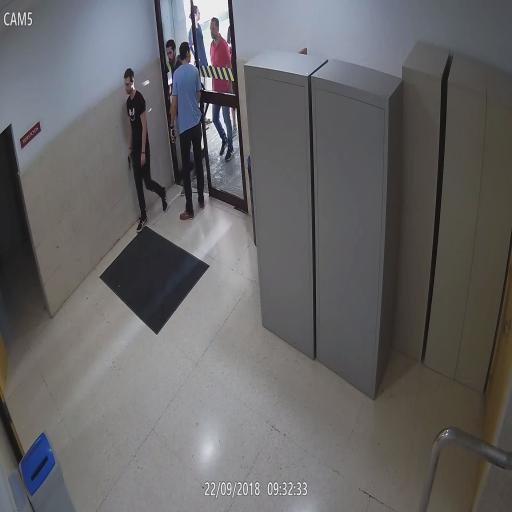Handgun: (126, 148, 134, 173), (169, 125, 177, 150)
